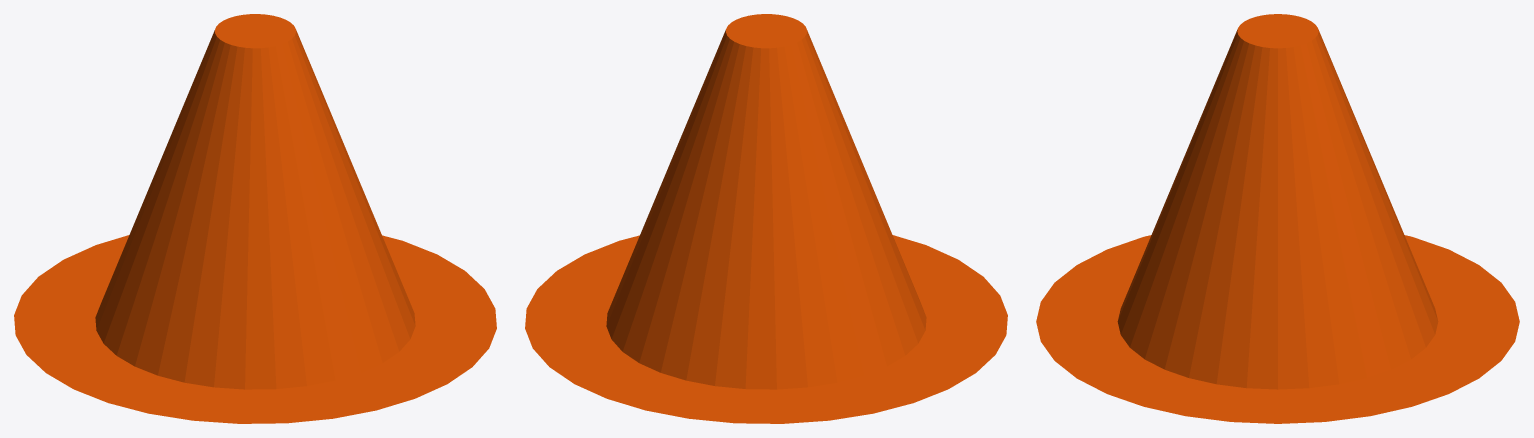
3 views of the same model, side by side, from view 1: azimuth 30°, elevation 25°; view 2: azimuth 150°, elevation 25°; view 3: azimuth 270°, elevation 25° (orthographic).
Parts seen in each view (by area): view 1: Cylinder; view 2: Cylinder; view 3: Cylinder.
Boxes of the visible parts, <box> form: Cylinder: <box>14,14,496,423</box>; Cylinder: <box>525,14,1007,423</box>; Cylinder: <box>1036,14,1519,423</box>.
Bounding box in the file's own units: 302 × 200 × 302.
